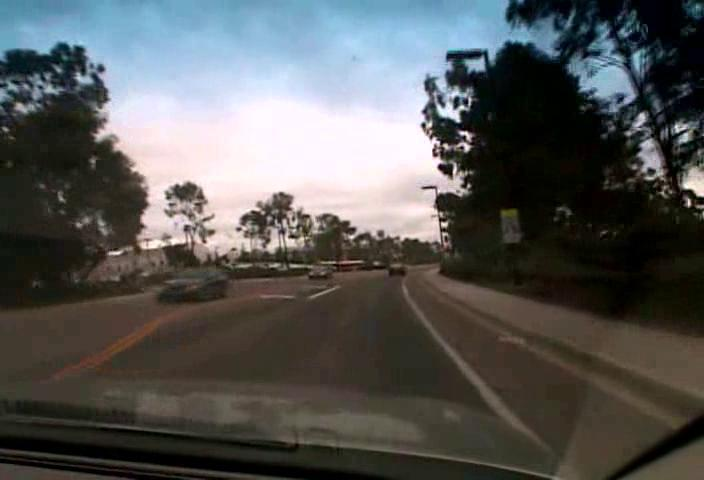schoolSpeedLimit25: (500, 207, 520, 243)
